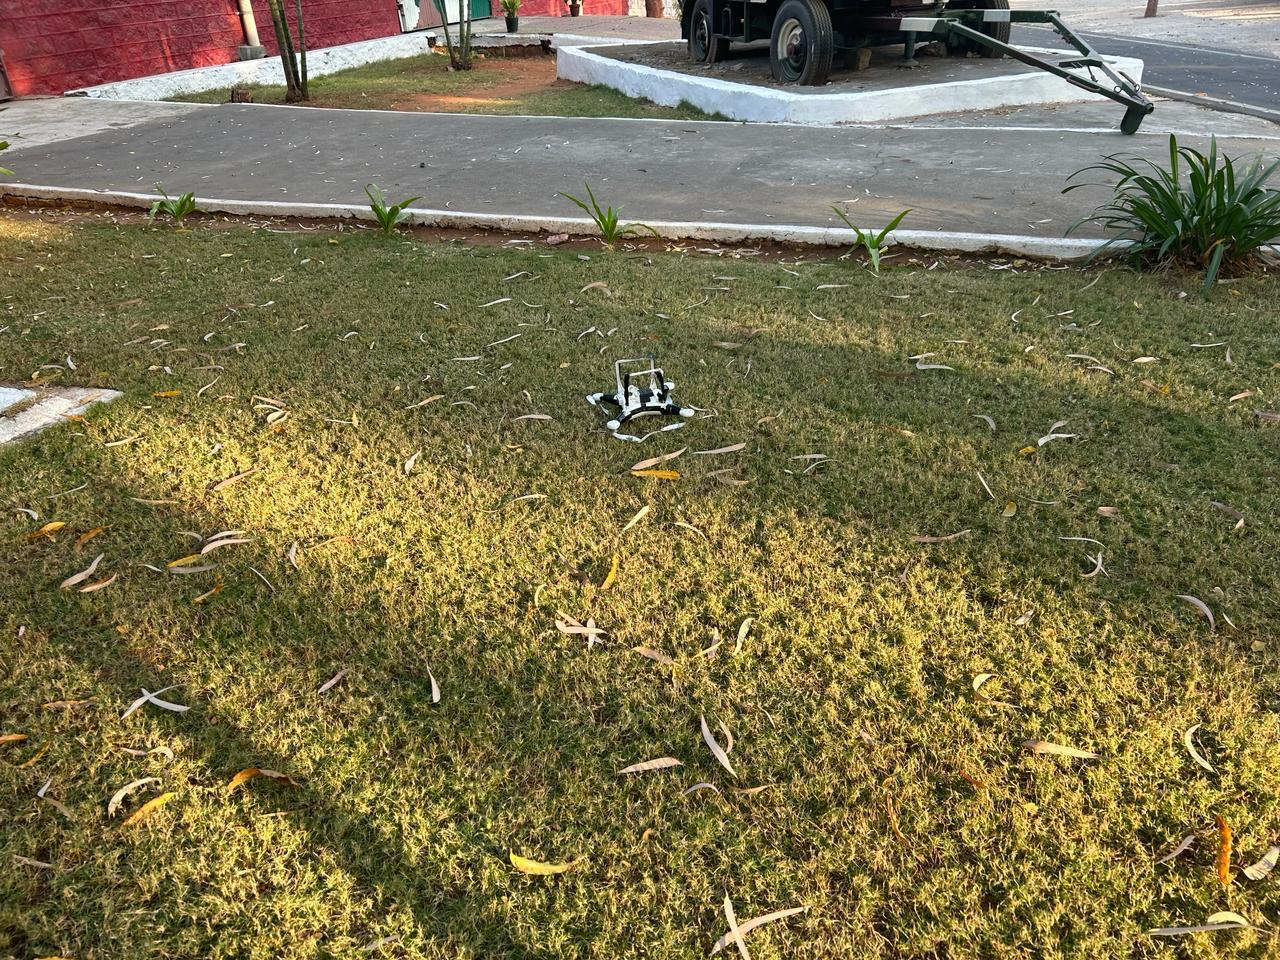drone: (564, 352, 739, 448)
